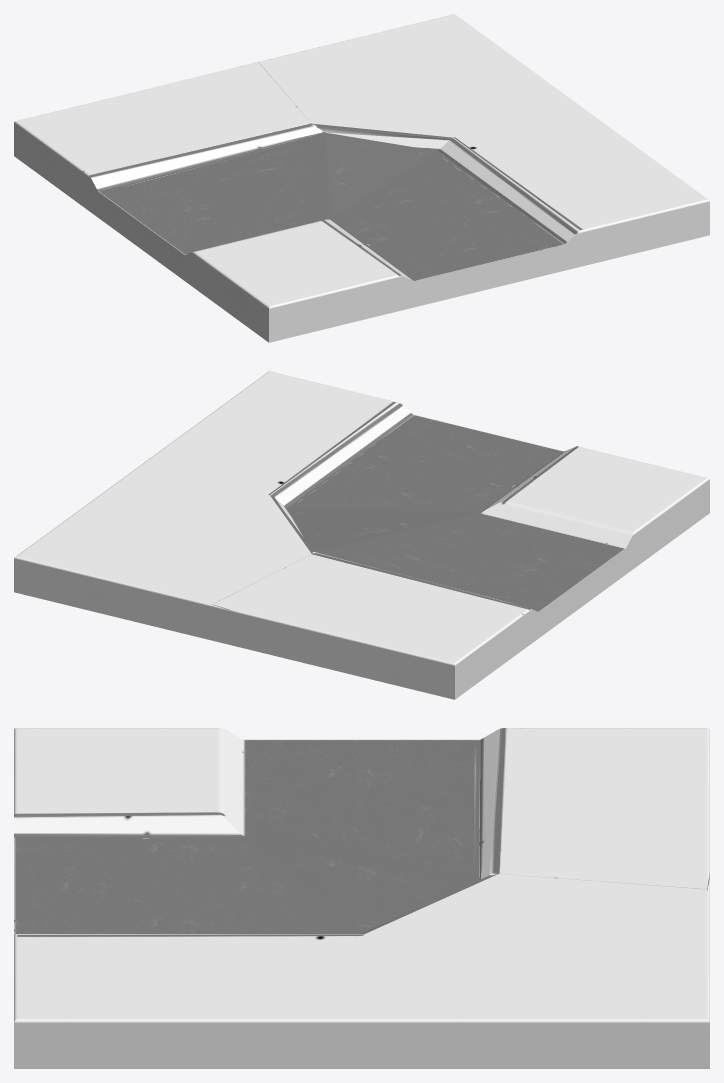
File: crossroadcurve.fbx
3 views of the same model, one above another, from view 1: azimuth 30°, elevation 25°; view 2: azimuth 150°, elevation 25°; view 3: azimuth 270°, elevation 25° (orthographic). The views are drawn at different scales.
Visible parts, largest first — view 1: Cube.006; view 2: Cube.006; view 3: Cube.006.
Boxes of the visible parts, x1=… form: Cube.006: x1=14, y1=14, x2=709, y2=342; Cube.006: x1=14, y1=371, x2=709, y2=699; Cube.006: x1=14, y1=728, x2=709, y2=1068.
Bounding box in the file's own units: 195 × 15 × 196.
